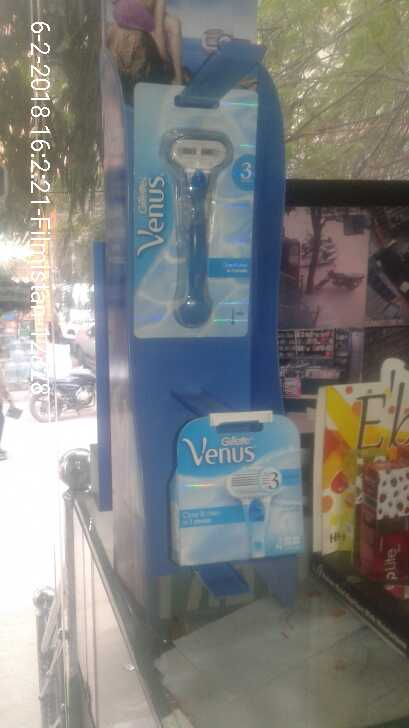venus: (126, 73, 253, 337), (173, 406, 308, 564)
